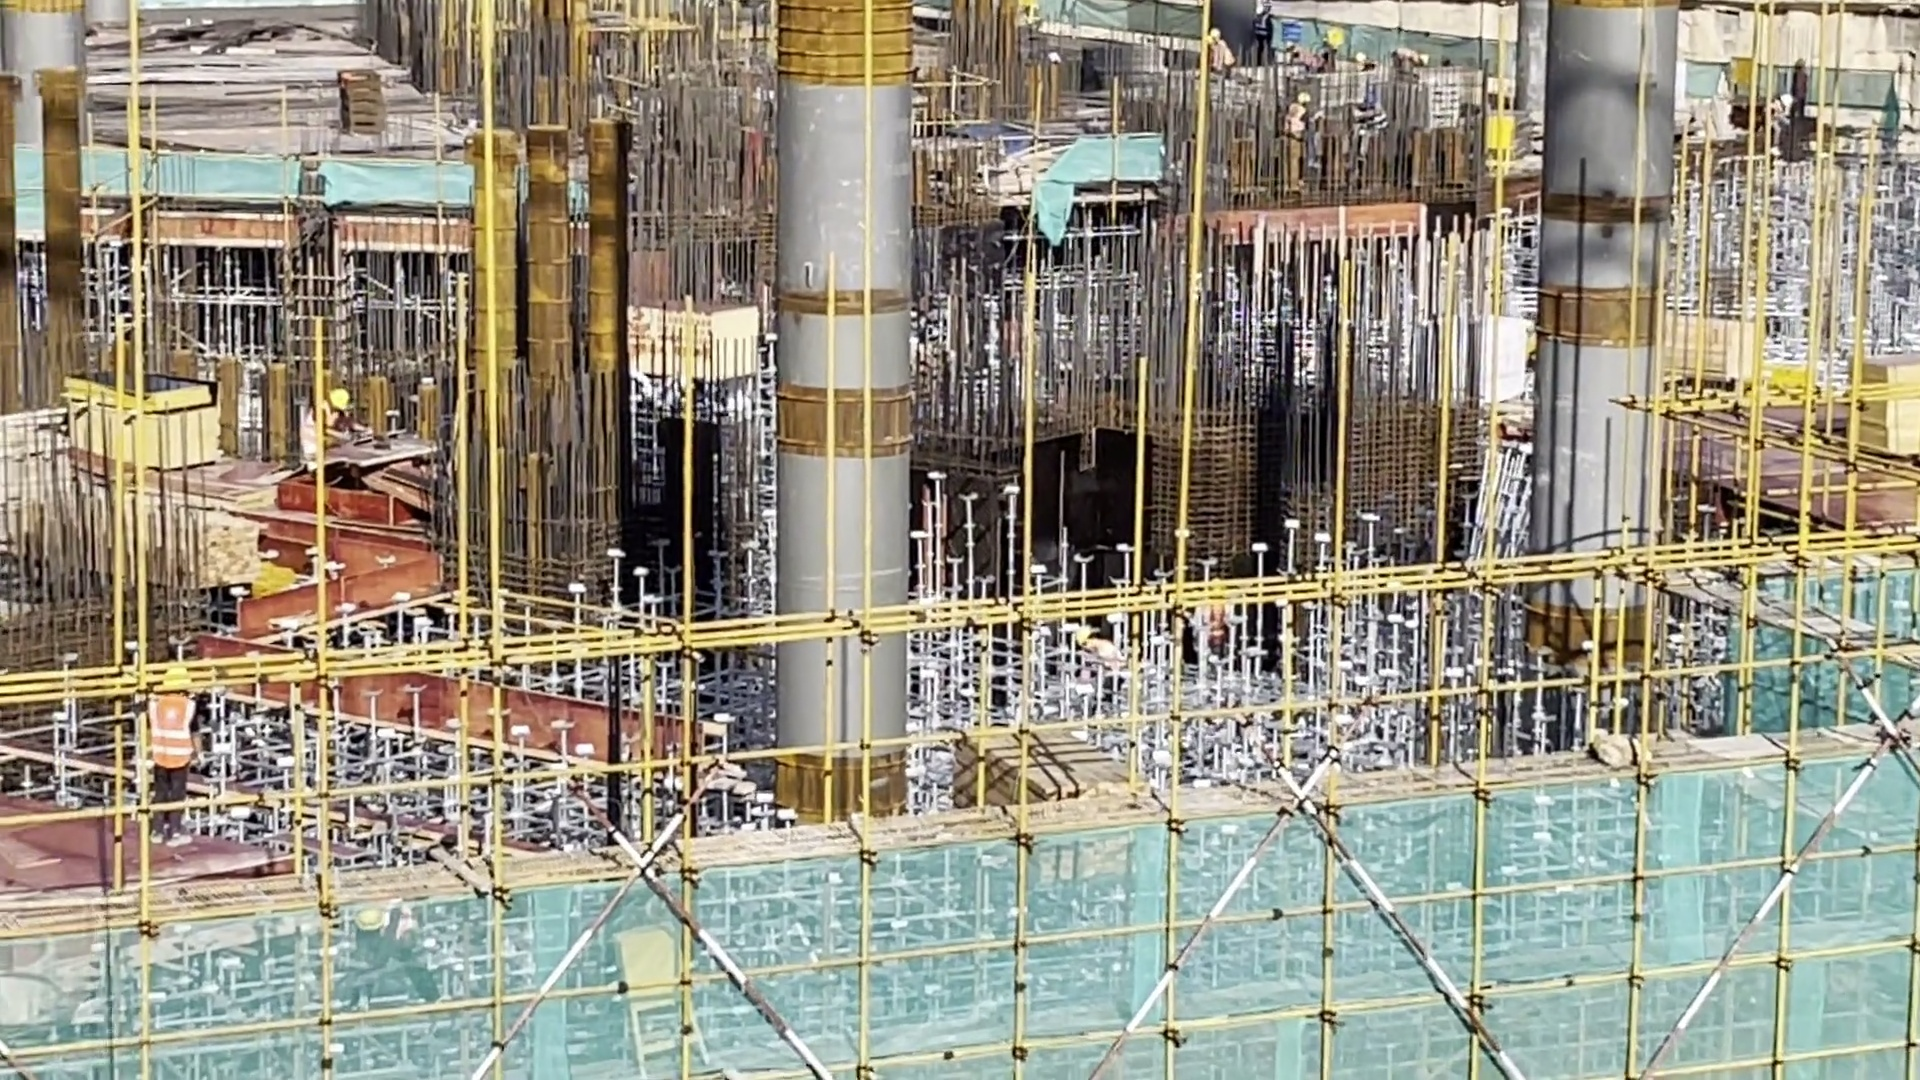helmet: (154, 661, 184, 687), (326, 387, 353, 404), (1782, 96, 1799, 116), (1218, 572, 1229, 595), (1078, 628, 1092, 643), (1795, 57, 1808, 74), (1329, 29, 1343, 45), (1207, 27, 1223, 38), (1304, 91, 1320, 101), (1281, 37, 1295, 47), (1365, 92, 1375, 104), (1265, 1, 1277, 11), (1360, 52, 1367, 65), (1399, 46, 1409, 57)
person: (136, 670, 214, 843), (1345, 95, 1397, 218), (309, 385, 367, 463), (1201, 28, 1249, 90), (1206, 573, 1237, 661), (1789, 49, 1820, 124), (1079, 617, 1109, 691), (1284, 89, 1303, 205), (1385, 50, 1436, 91), (1764, 79, 1791, 147), (1320, 22, 1344, 77), (1253, 1, 1274, 60), (1292, 36, 1315, 78), (1354, 47, 1378, 71)
vest: (156, 696, 203, 777), (301, 411, 341, 449), (1361, 109, 1387, 136), (1286, 105, 1306, 139), (1208, 46, 1236, 69), (1250, 17, 1274, 41), (1096, 649, 1119, 669), (1216, 619, 1233, 645), (1370, 107, 1390, 128), (1794, 71, 1806, 101), (1770, 102, 1787, 123), (1396, 50, 1417, 66), (1312, 39, 1336, 53), (1298, 47, 1314, 65)
